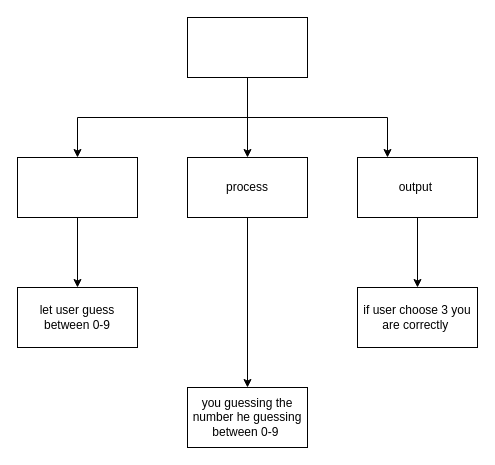
The diagram is 495 pixels wide and 465 high, and some of its shapes have lost their labels. The shapes that lost their labels are listed below. From the top down, each one's box as (x1, y1, x2, y2) in pixels, then its label:
(186, 16, 308, 78): guessing game
(16, 156, 138, 218): input
